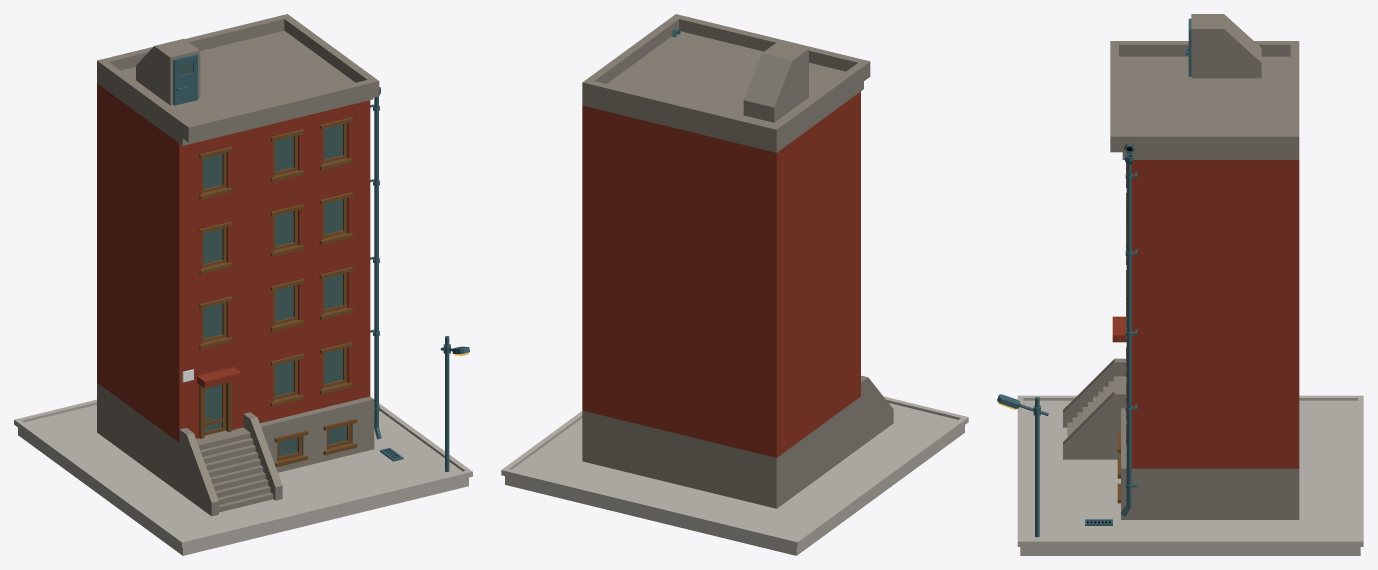
File: building_1.fbx
3 views of the same model, side by side, from view 1: azimuth 30°, elevation 25°; view 2: azimuth 150°, elevation 25°; view 3: azimuth 270°, elevation 25° (orthographic). The views are drawn at different scales.
Parts seen in each view (by area): view 1: Rectangle021; view 2: Rectangle021; view 3: Rectangle021.
Boxes of the visible parts, x1=… form: Rectangle021: x1=14, y1=14, x2=472, y2=555; Rectangle021: x1=501, y1=14, x2=968, y2=555; Rectangle021: x1=997, y1=14, x2=1363, y2=555.
Size of the model in its own units: 12200 by 16861 by 12912.
